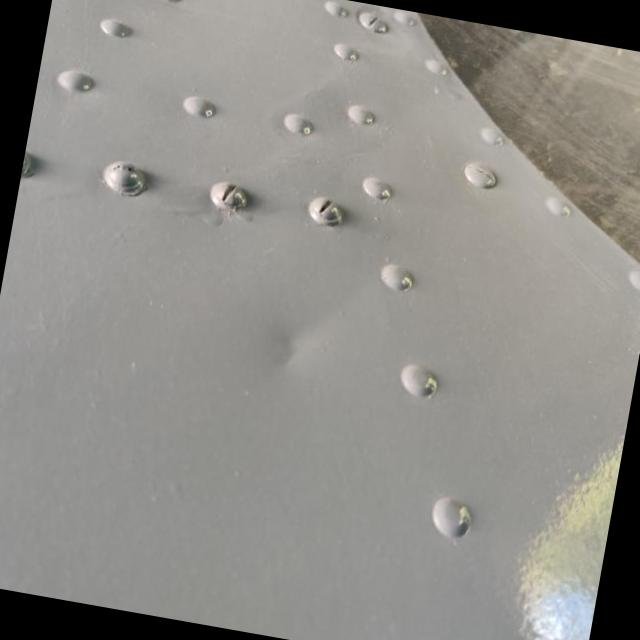Dent: (255, 313, 332, 378)
